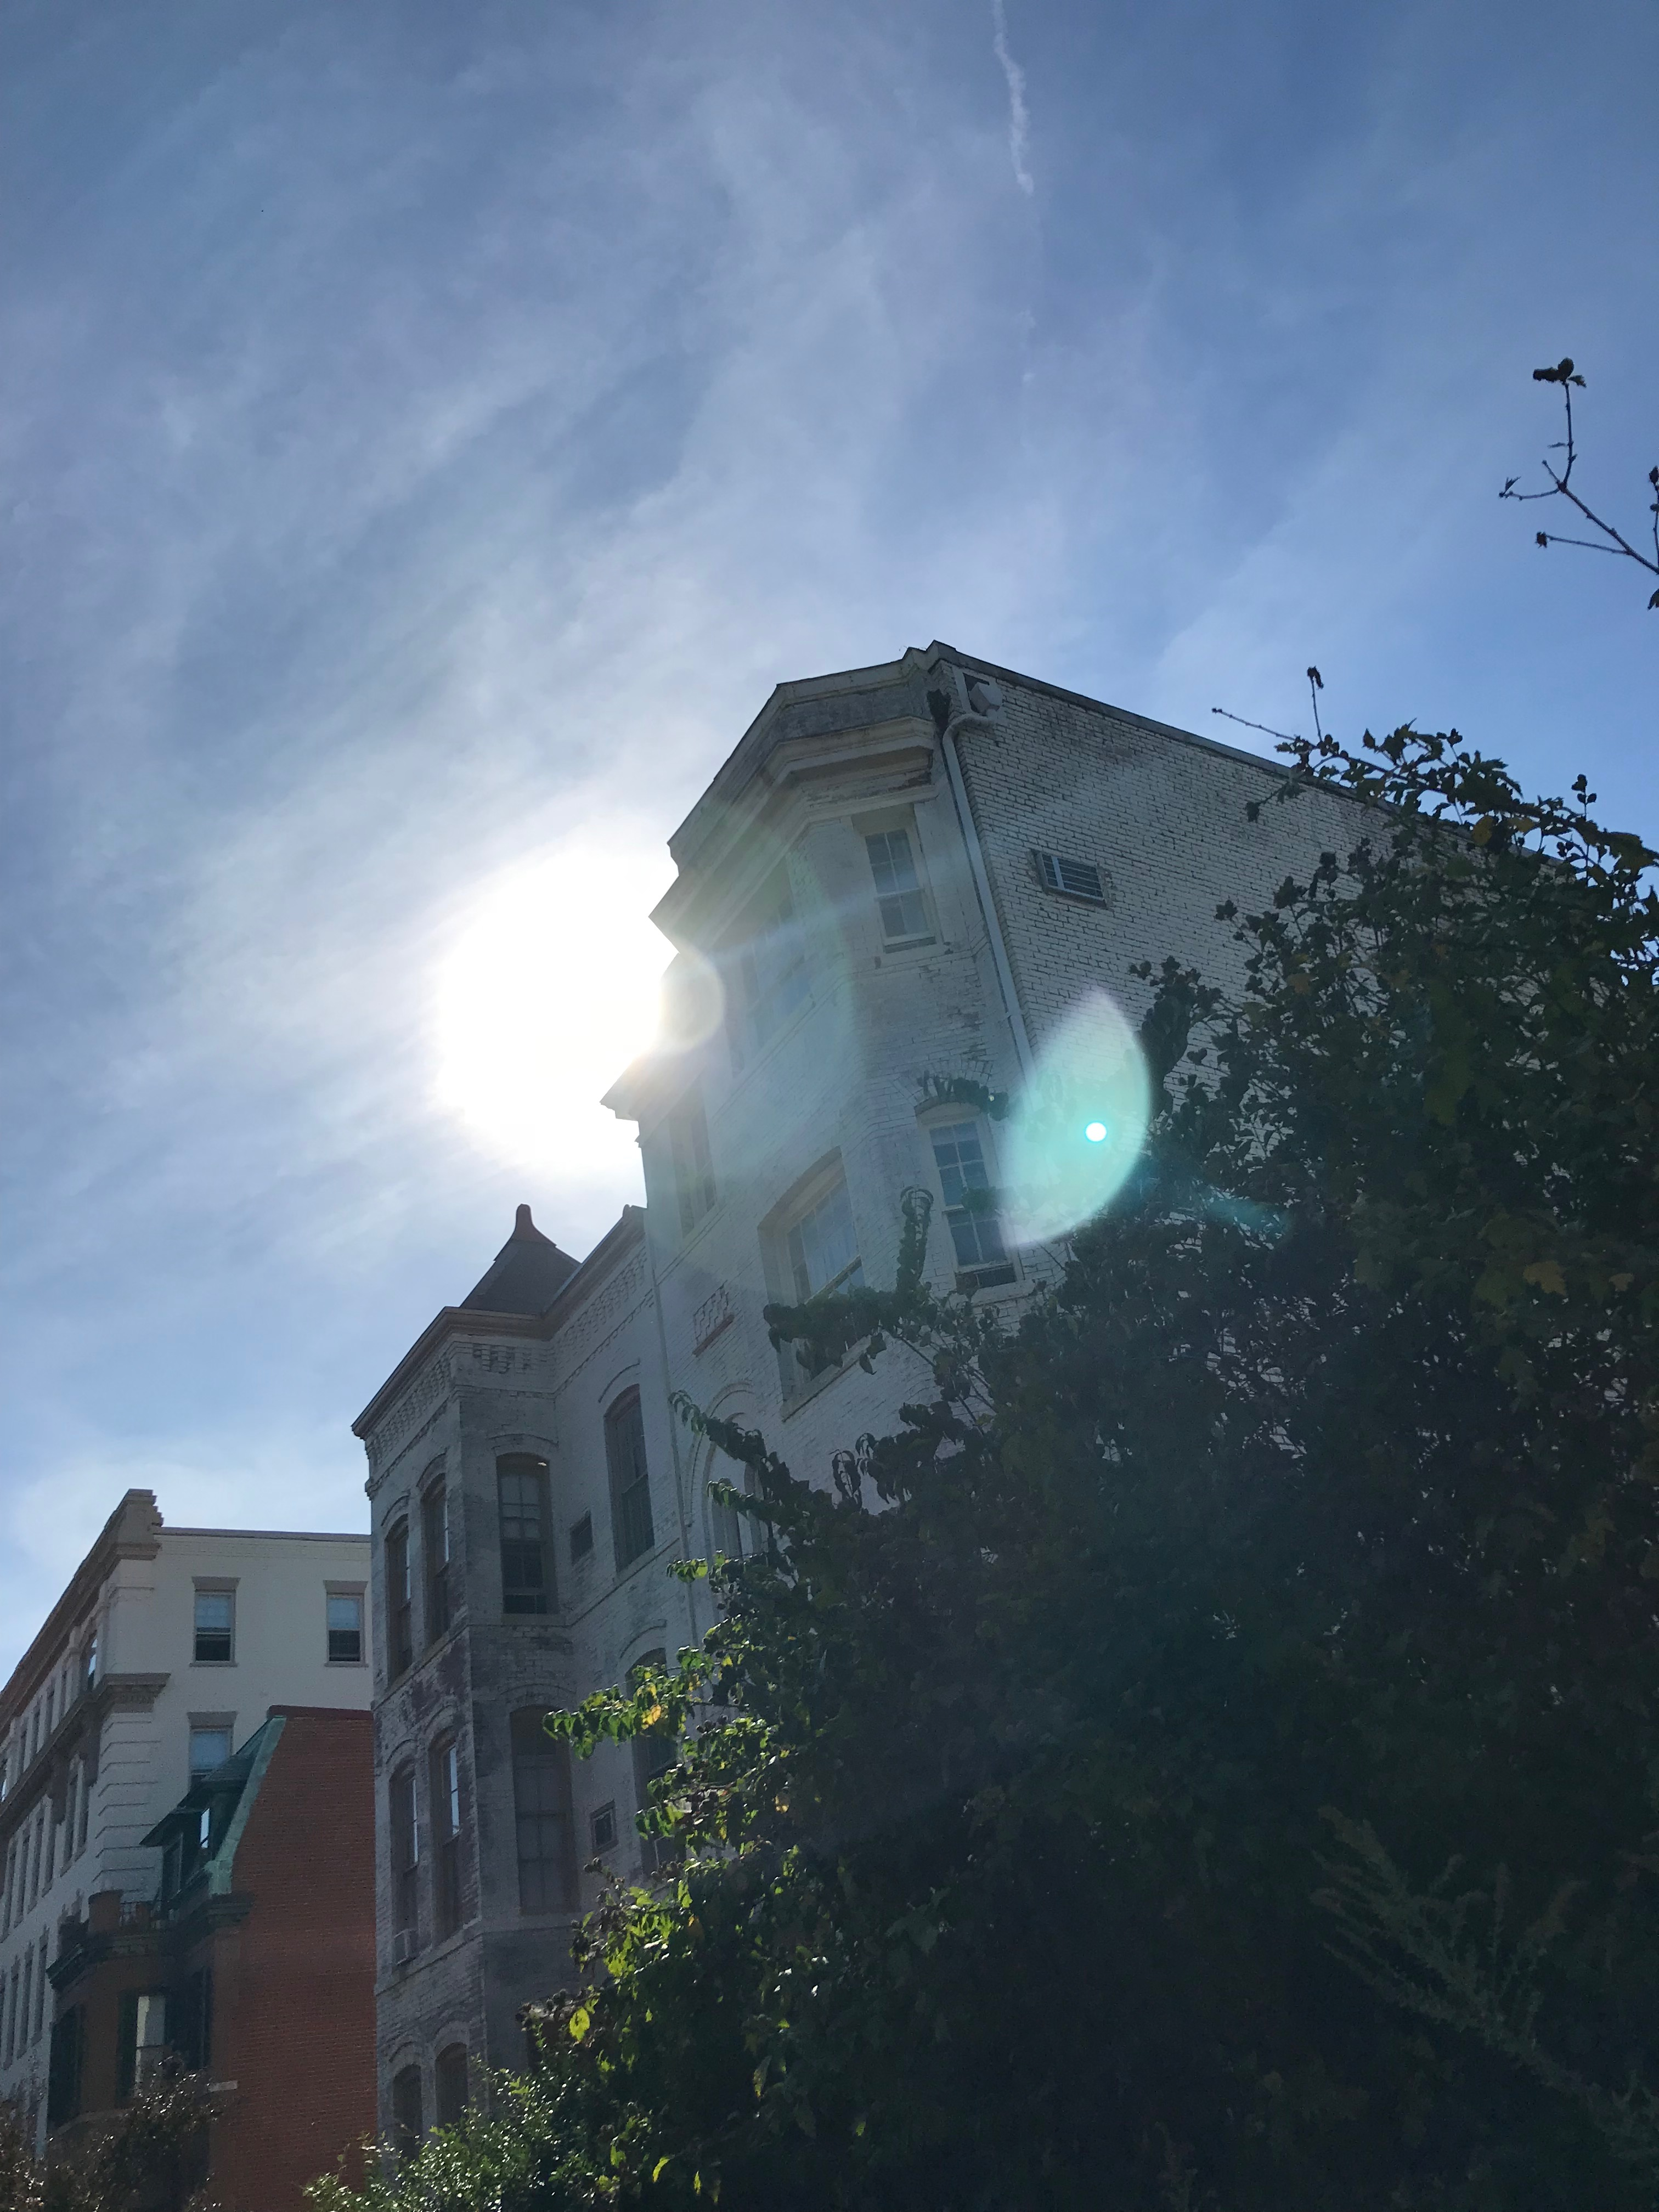flare: (1082, 1120, 1110, 1144)
